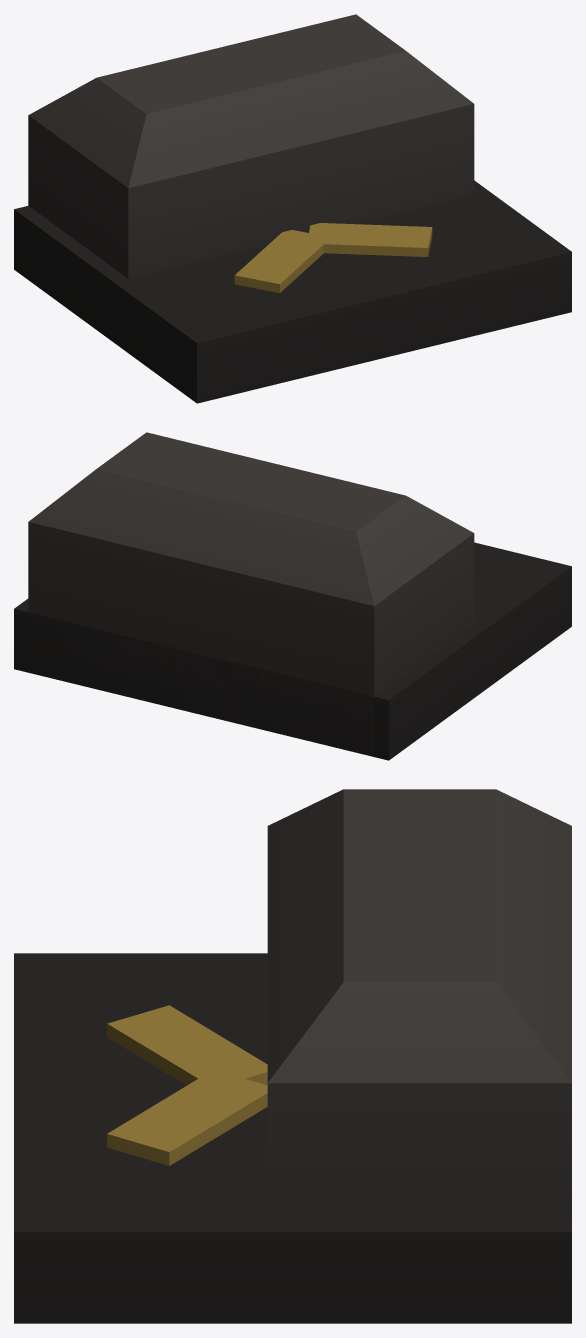
The model's file is underground-belt.glb.
The picture shows the model from 3 angles, top to bottom: view 1: azimuth 30°, elevation 25°; view 2: azimuth 150°, elevation 25°; view 3: azimuth 270°, elevation 25°; orthographic projection. The views are drawn at different scales.
Parts seen in each view (by area): view 1: underground-belt; view 2: underground-belt; view 3: underground-belt.
Boxes of the visible parts, box(x1,y1,x2,y2) form: underground-belt: box(14, 14, 571, 403); underground-belt: box(14, 432, 571, 760); underground-belt: box(14, 789, 571, 1323).
Size of the model in its own units: 0.26 by 0.13 by 0.22.
